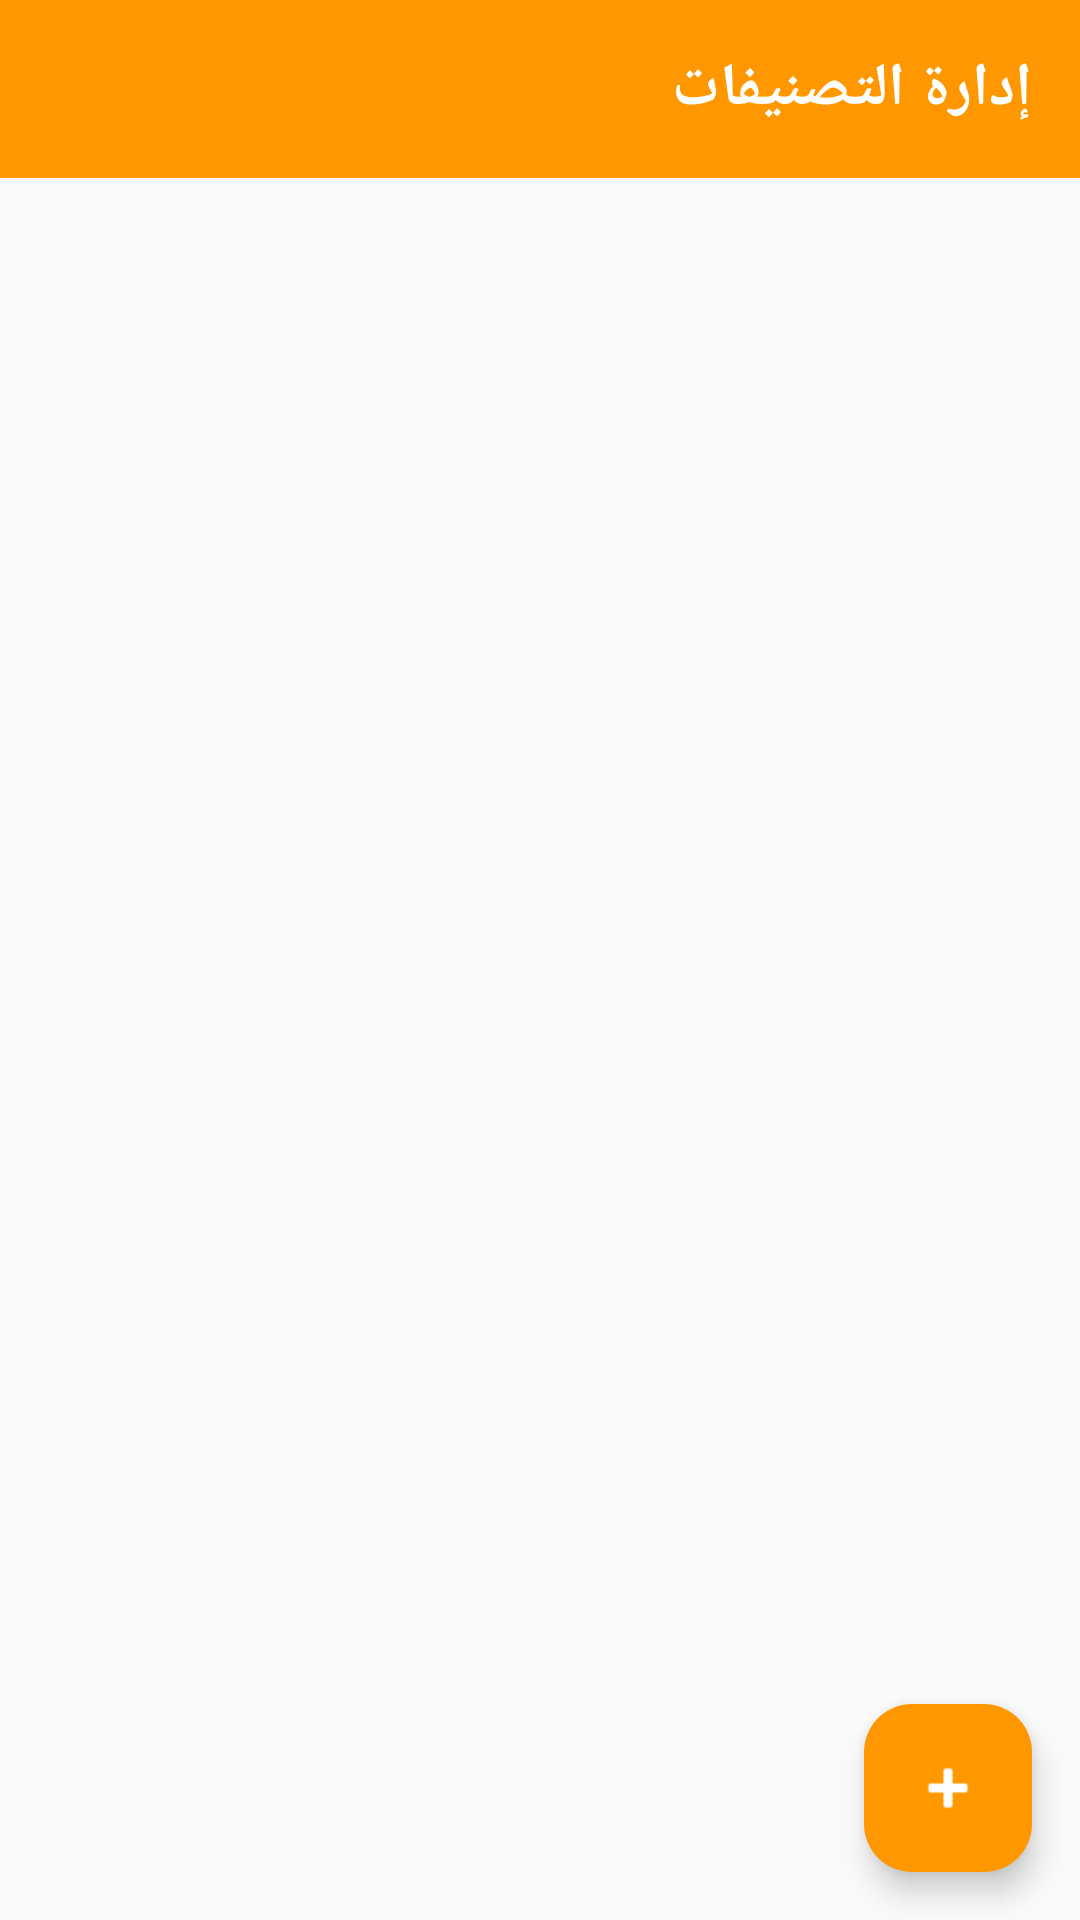

Named icons in this screenshot (1080 x 1920) and their bounding boxes, (x1, y1, x2, y2):
إضافة تصنيف: (864, 1704, 1032, 1872)
